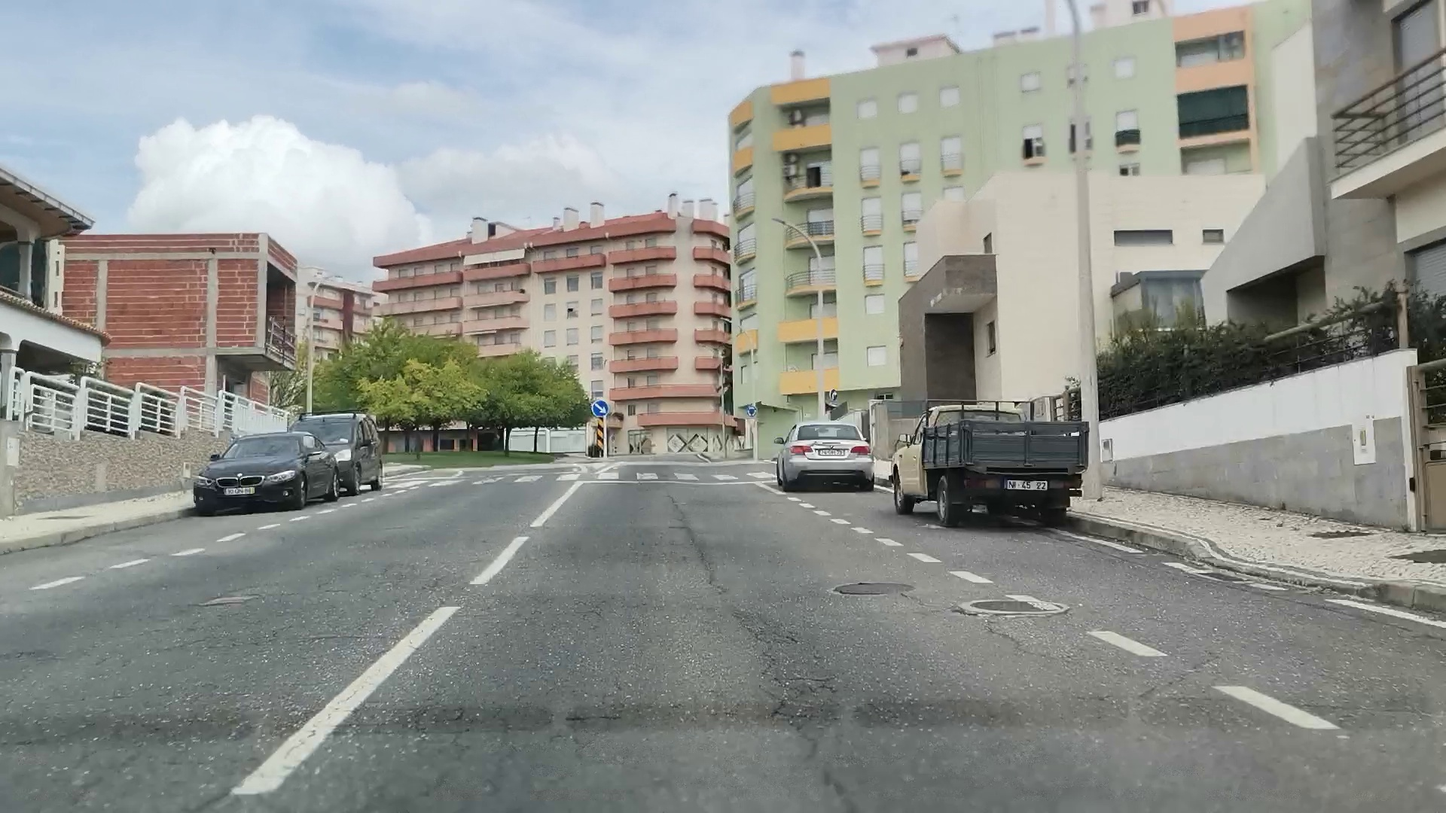Stairs: (385, 468, 777, 488)
